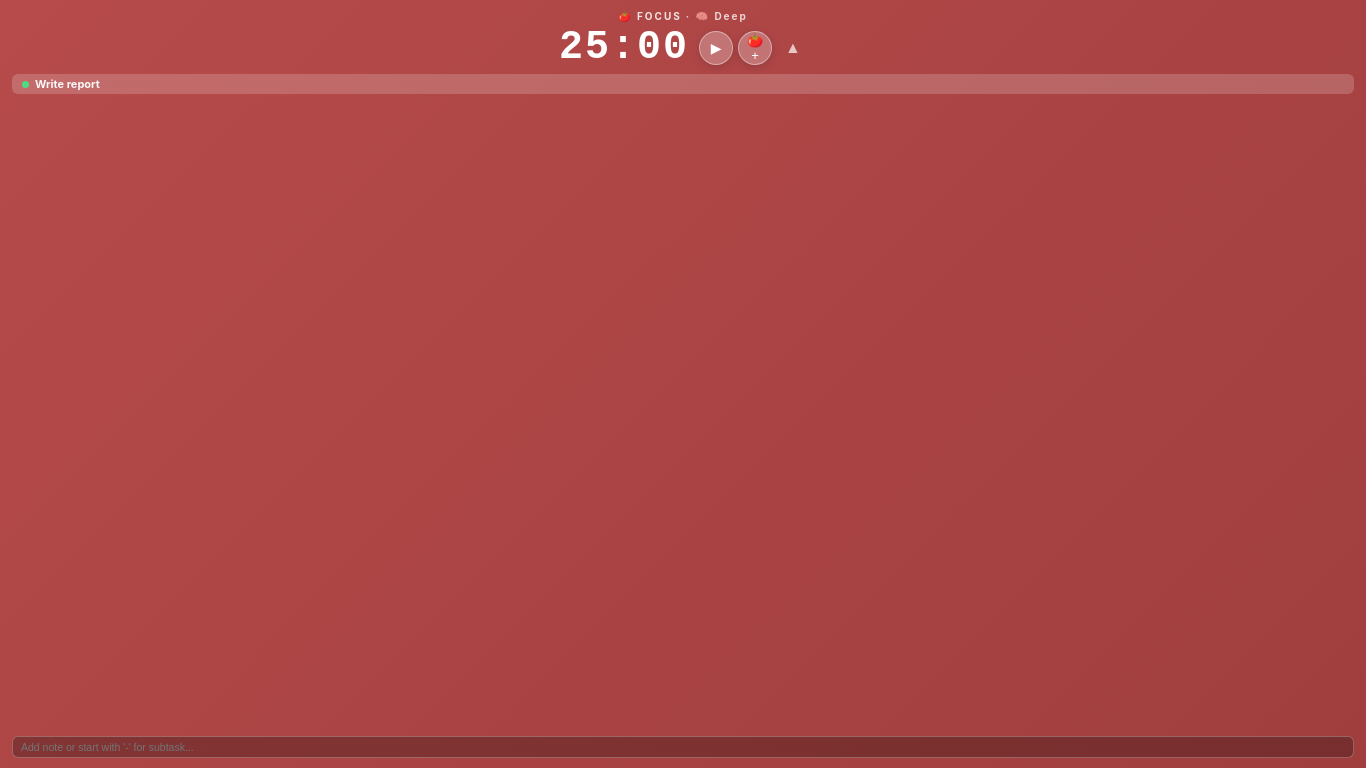
Scenario: PomodoroWidgetContent Component › cancels new pomodoro creation when clicking cancel button
Step 1. Click the button titled "Start a new Pomodoro" → {"x": 755, "y": 48}, box [738,31,772,65]
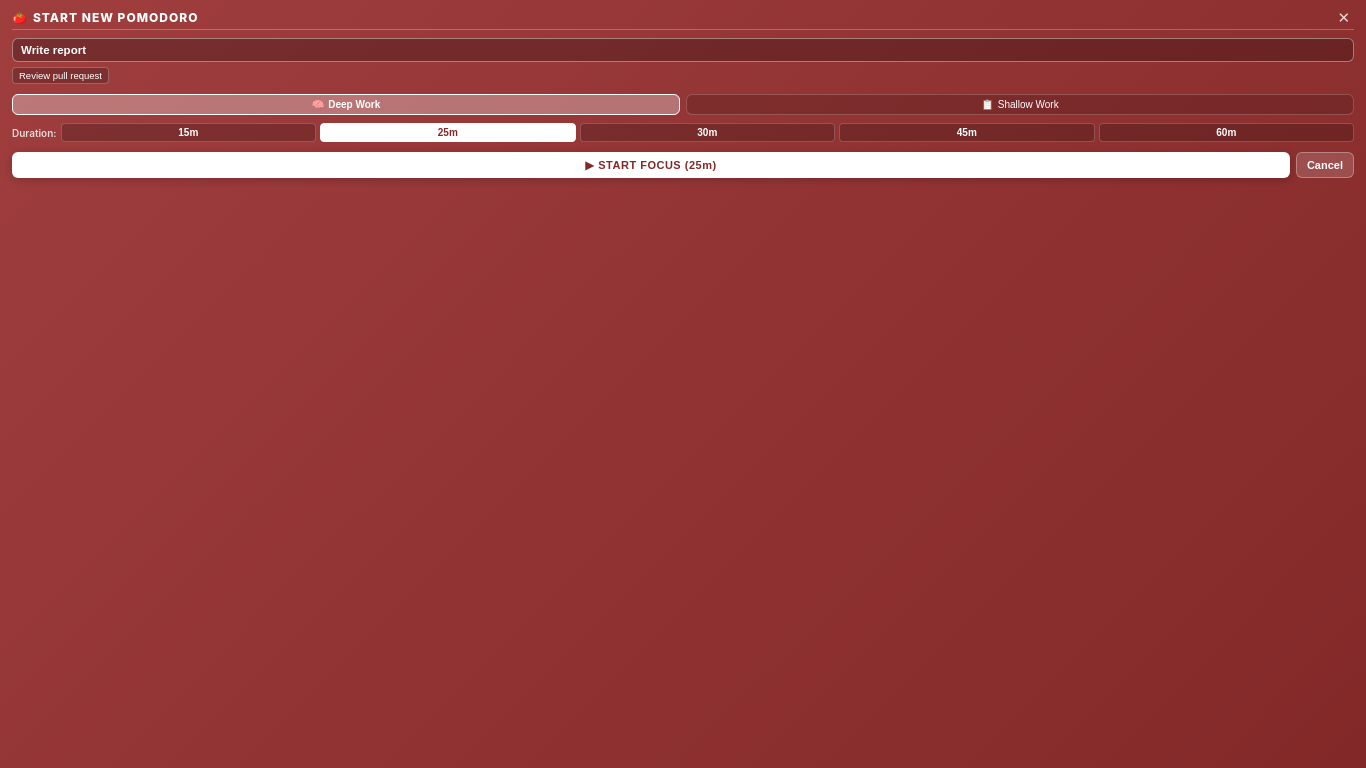
Result: the text "START NEW POMODORO" is shown at [33,10,198,25]
Step 2. Click the button "Cancel" → {"x": 1325, "y": 165}, box [1296,152,1354,178]
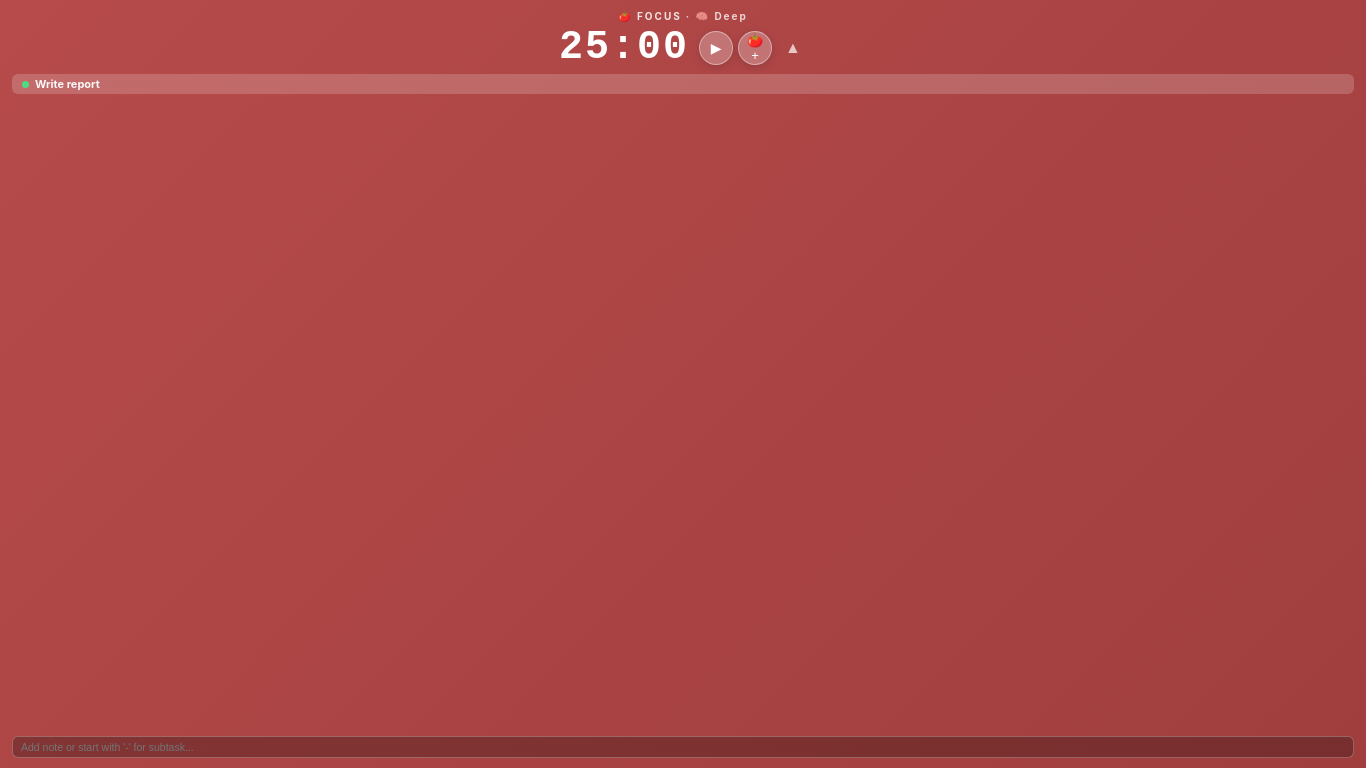
Result: the text "START NEW POMODORO" is gone
Result: the text "25:00" is shown at [559,28,689,68]
